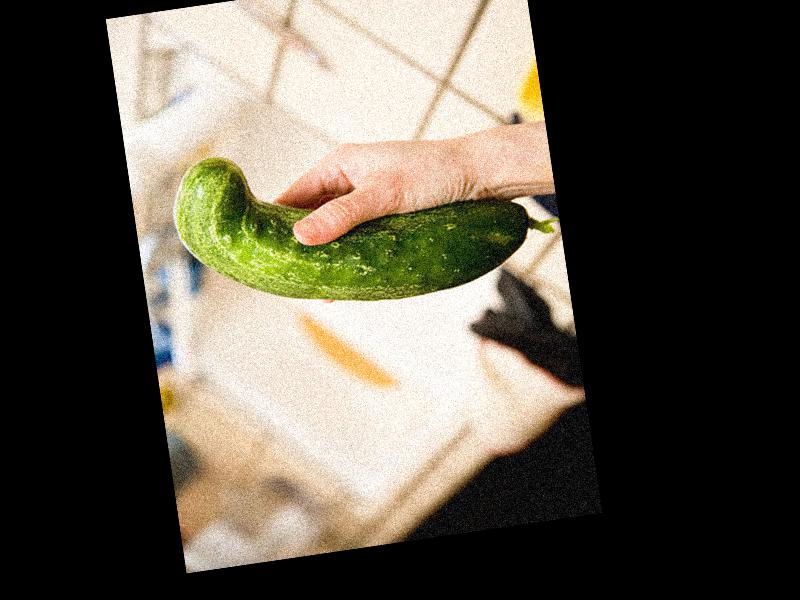Cucumber: (165, 110, 561, 330)
